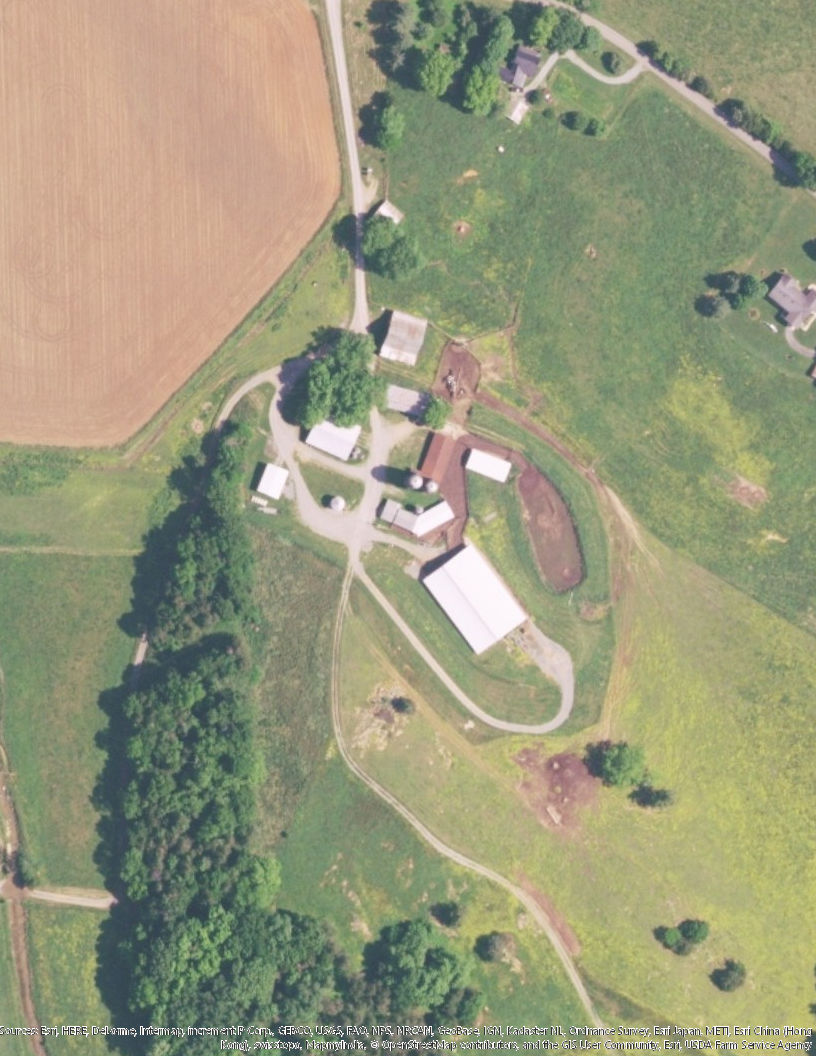cafo: (418, 540, 542, 660)
